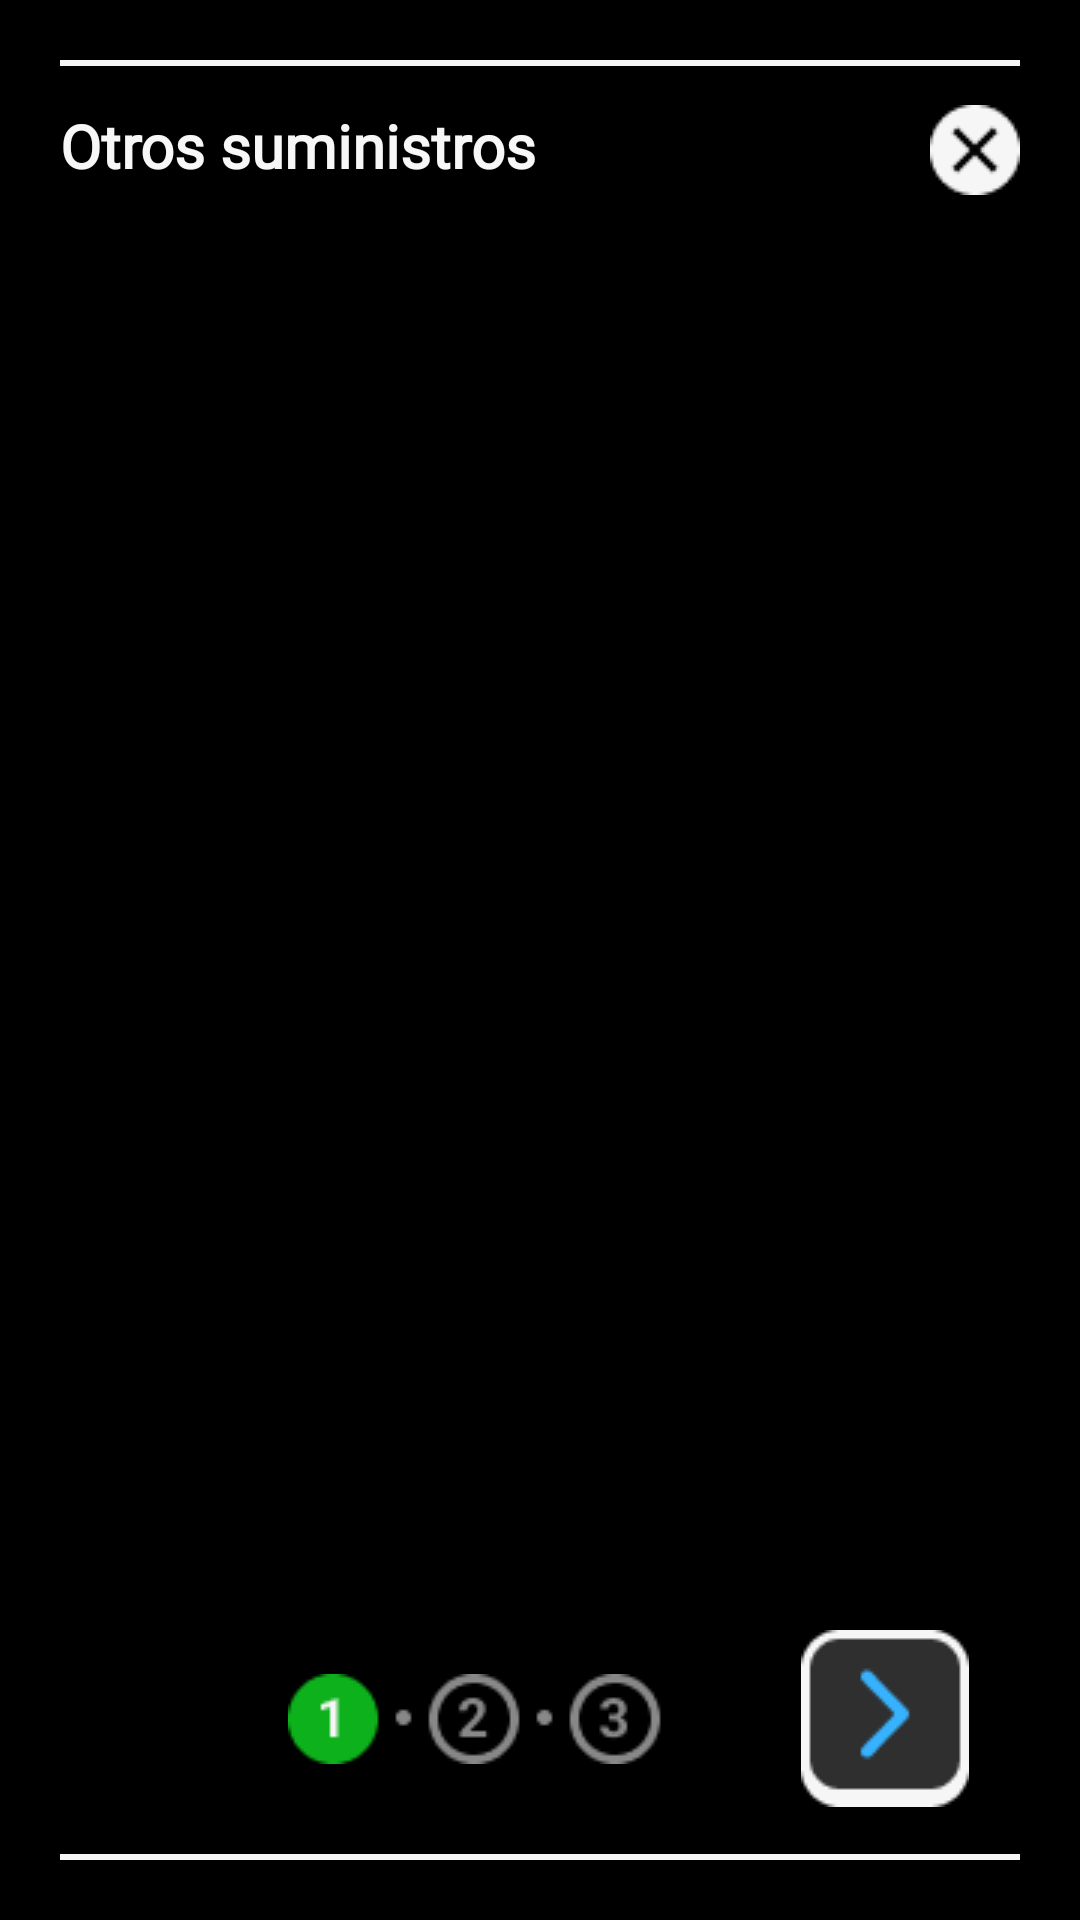

Icon click points for this 1080 × 1920 phone screenshot, format (x=x, y=y):
closebutton: (x=975, y=150)
